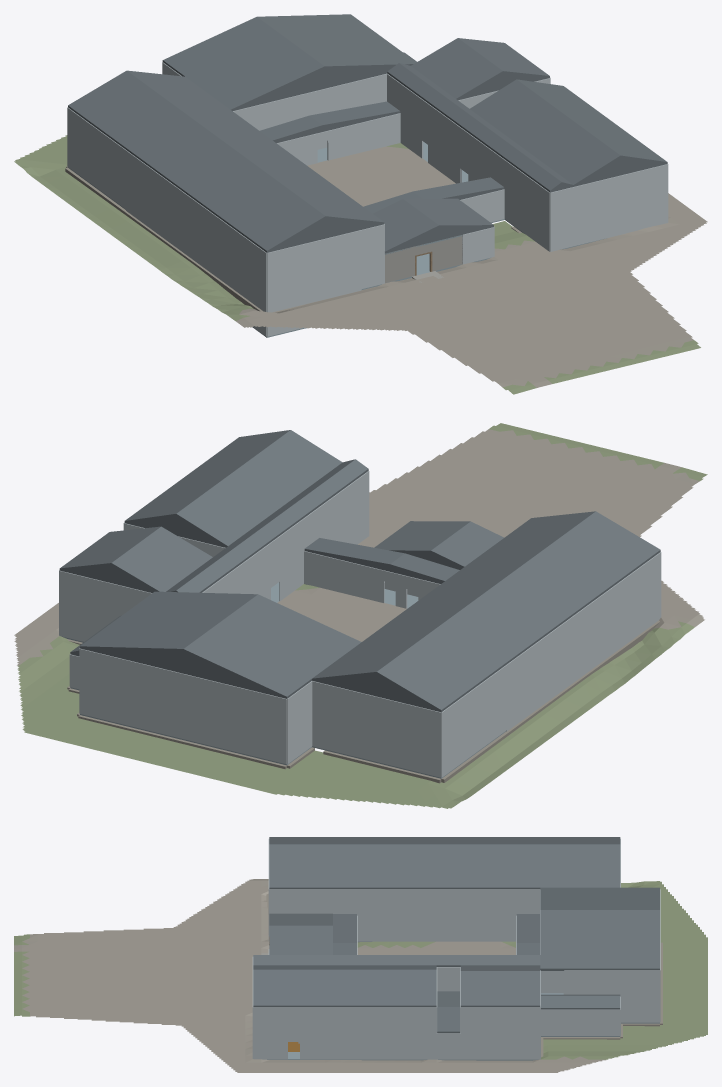
Rendered from saved-earthworks.glb.
The picture shows the model from 3 angles, top to bottom: view 1: azimuth 30°, elevation 25°; view 2: azimuth 150°, elevation 25°; view 3: azimuth 270°, elevation 25°; orthographic projection. The views are drawn at different scales.
Visible parts, largest first — view 1: Saved editor geographic earthworks ACADEMY, west-residential-library roof west, north-dormitory roof west, west-residential-library roof east, east-teaching-stair roof west, north-dormitory roof east, Wall upper-east W, Wall upper-north S, east-cloister-spine roof west, east-teaching-stair roof east, science-upper roof west, Wall upper-main-stair S (+36 smaller); view 2: Saved editor geographic earthworks ACADEMY, west-residential-library roof west, north-dormitory roof west, west-residential-library roof east, east-teaching-stair roof west, north-dormitory roof east, Wall upper-east W, east-cloister-spine roof west, east-teaching-stair roof east, science-upper roof west, Flat route shell Wall south N.001, Wall restricted N (+42 smaller); view 3: Saved editor geographic earthworks ACADEMY, west-residential-library roof east, north-dormitory roof east, east-teaching-stair roof east, Flat route shell Wall upper-west E.001, Flat route shell Wall west E.001, east-cloister-spine roof east, science-upper roof east, west-residential-library roof west, Wall lecture E, Wall study E, north-dormitory roof west (+21 smaller).
Part boxes in pixels (x1=…): Saved editor geographic earthworks ACADEMY: x1=14, y1=135, x2=707, y2=394; west-residential-library roof west: x1=68, y1=70, x2=325, y2=252; north-dormitory roof west: x1=162, y1=17, x2=324, y2=110; west-residential-library roof east: x1=127, y1=70, x2=384, y2=223; east-teaching-stair roof west: x1=470, y1=79, x2=620, y2=186; north-dormitory roof east: x1=257, y1=14, x2=416, y2=67; Wall upper-east W: x1=387, y1=74, x2=549, y2=222; Wall upper-north S: x1=233, y1=73, x2=386, y2=130; east-cloister-spine roof west: x1=387, y1=63, x2=561, y2=192; east-teaching-stair roof east: x1=517, y1=79, x2=666, y2=163; science-upper roof west: x1=411, y1=38, x2=502, y2=99; Wall upper-main-stair S: x1=267, y1=230, x2=361, y2=282; Saved editor geographic earthworks ACADEMY: x1=14, y1=423, x2=707, y2=808; west-residential-library roof west: x1=376, y1=511, x2=660, y2=711; north-dormitory roof west: x1=183, y1=594, x2=361, y2=698; west-residential-library roof east: x1=312, y1=511, x2=595, y2=680; east-teaching-stair roof west: x1=176, y1=430, x2=342, y2=546; north-dormitory roof east: x1=80, y1=591, x2=257, y2=650; Wall upper-east W: x1=202, y1=471, x2=369, y2=593; east-cloister-spine roof west: x1=176, y1=459, x2=368, y2=592; east-teaching-stair roof east: x1=124, y1=430, x2=290, y2=522; science-upper roof west: x1=111, y1=526, x2=212, y2=591; Flat route shell Wall south N.001: x1=304, y1=551, x2=384, y2=602; Wall restricted N: x1=59, y1=570, x2=151, y2=617; Saved editor geographic earthworks ACADEMY: x1=14, y1=879, x2=707, y2=1072; west-residential-library roof east: x1=269, y1=844, x2=620, y2=889; north-dormitory roof east: x1=540, y1=910, x2=659, y2=969; east-teaching-stair roof east: x1=253, y1=969, x2=436, y2=1007; Flat route shell Wall upper-west E.001: x1=269, y1=889, x2=539, y2=915; Flat route shell Wall west E.001: x1=357, y1=915, x2=515, y2=941; east-cloister-spine roof east: x1=253, y1=955, x2=540, y2=966; science-upper roof east: x1=460, y1=971, x2=540, y2=1007; west-residential-library roof west: x1=269, y1=837, x2=620, y2=844; Wall lecture E: x1=333, y1=1033, x2=436, y2=1059; Wall study E: x1=333, y1=1007, x2=436, y2=1033; north-dormitory roof west: x1=540, y1=887, x2=659, y2=909.
Size of the model in its own units: 58 by 13.1 by 87.
28 materials, 19 textured.
